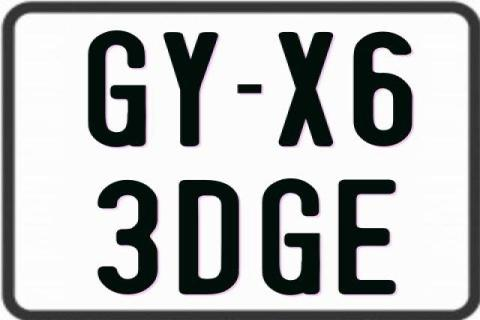0: (95, 179, 160, 299), (351, 31, 416, 149)
D: (178, 180, 240, 295)
E: (337, 178, 395, 296)
G: (260, 177, 324, 295), (86, 29, 146, 149)
X: (278, 31, 332, 149)
Y: (164, 32, 222, 148)
